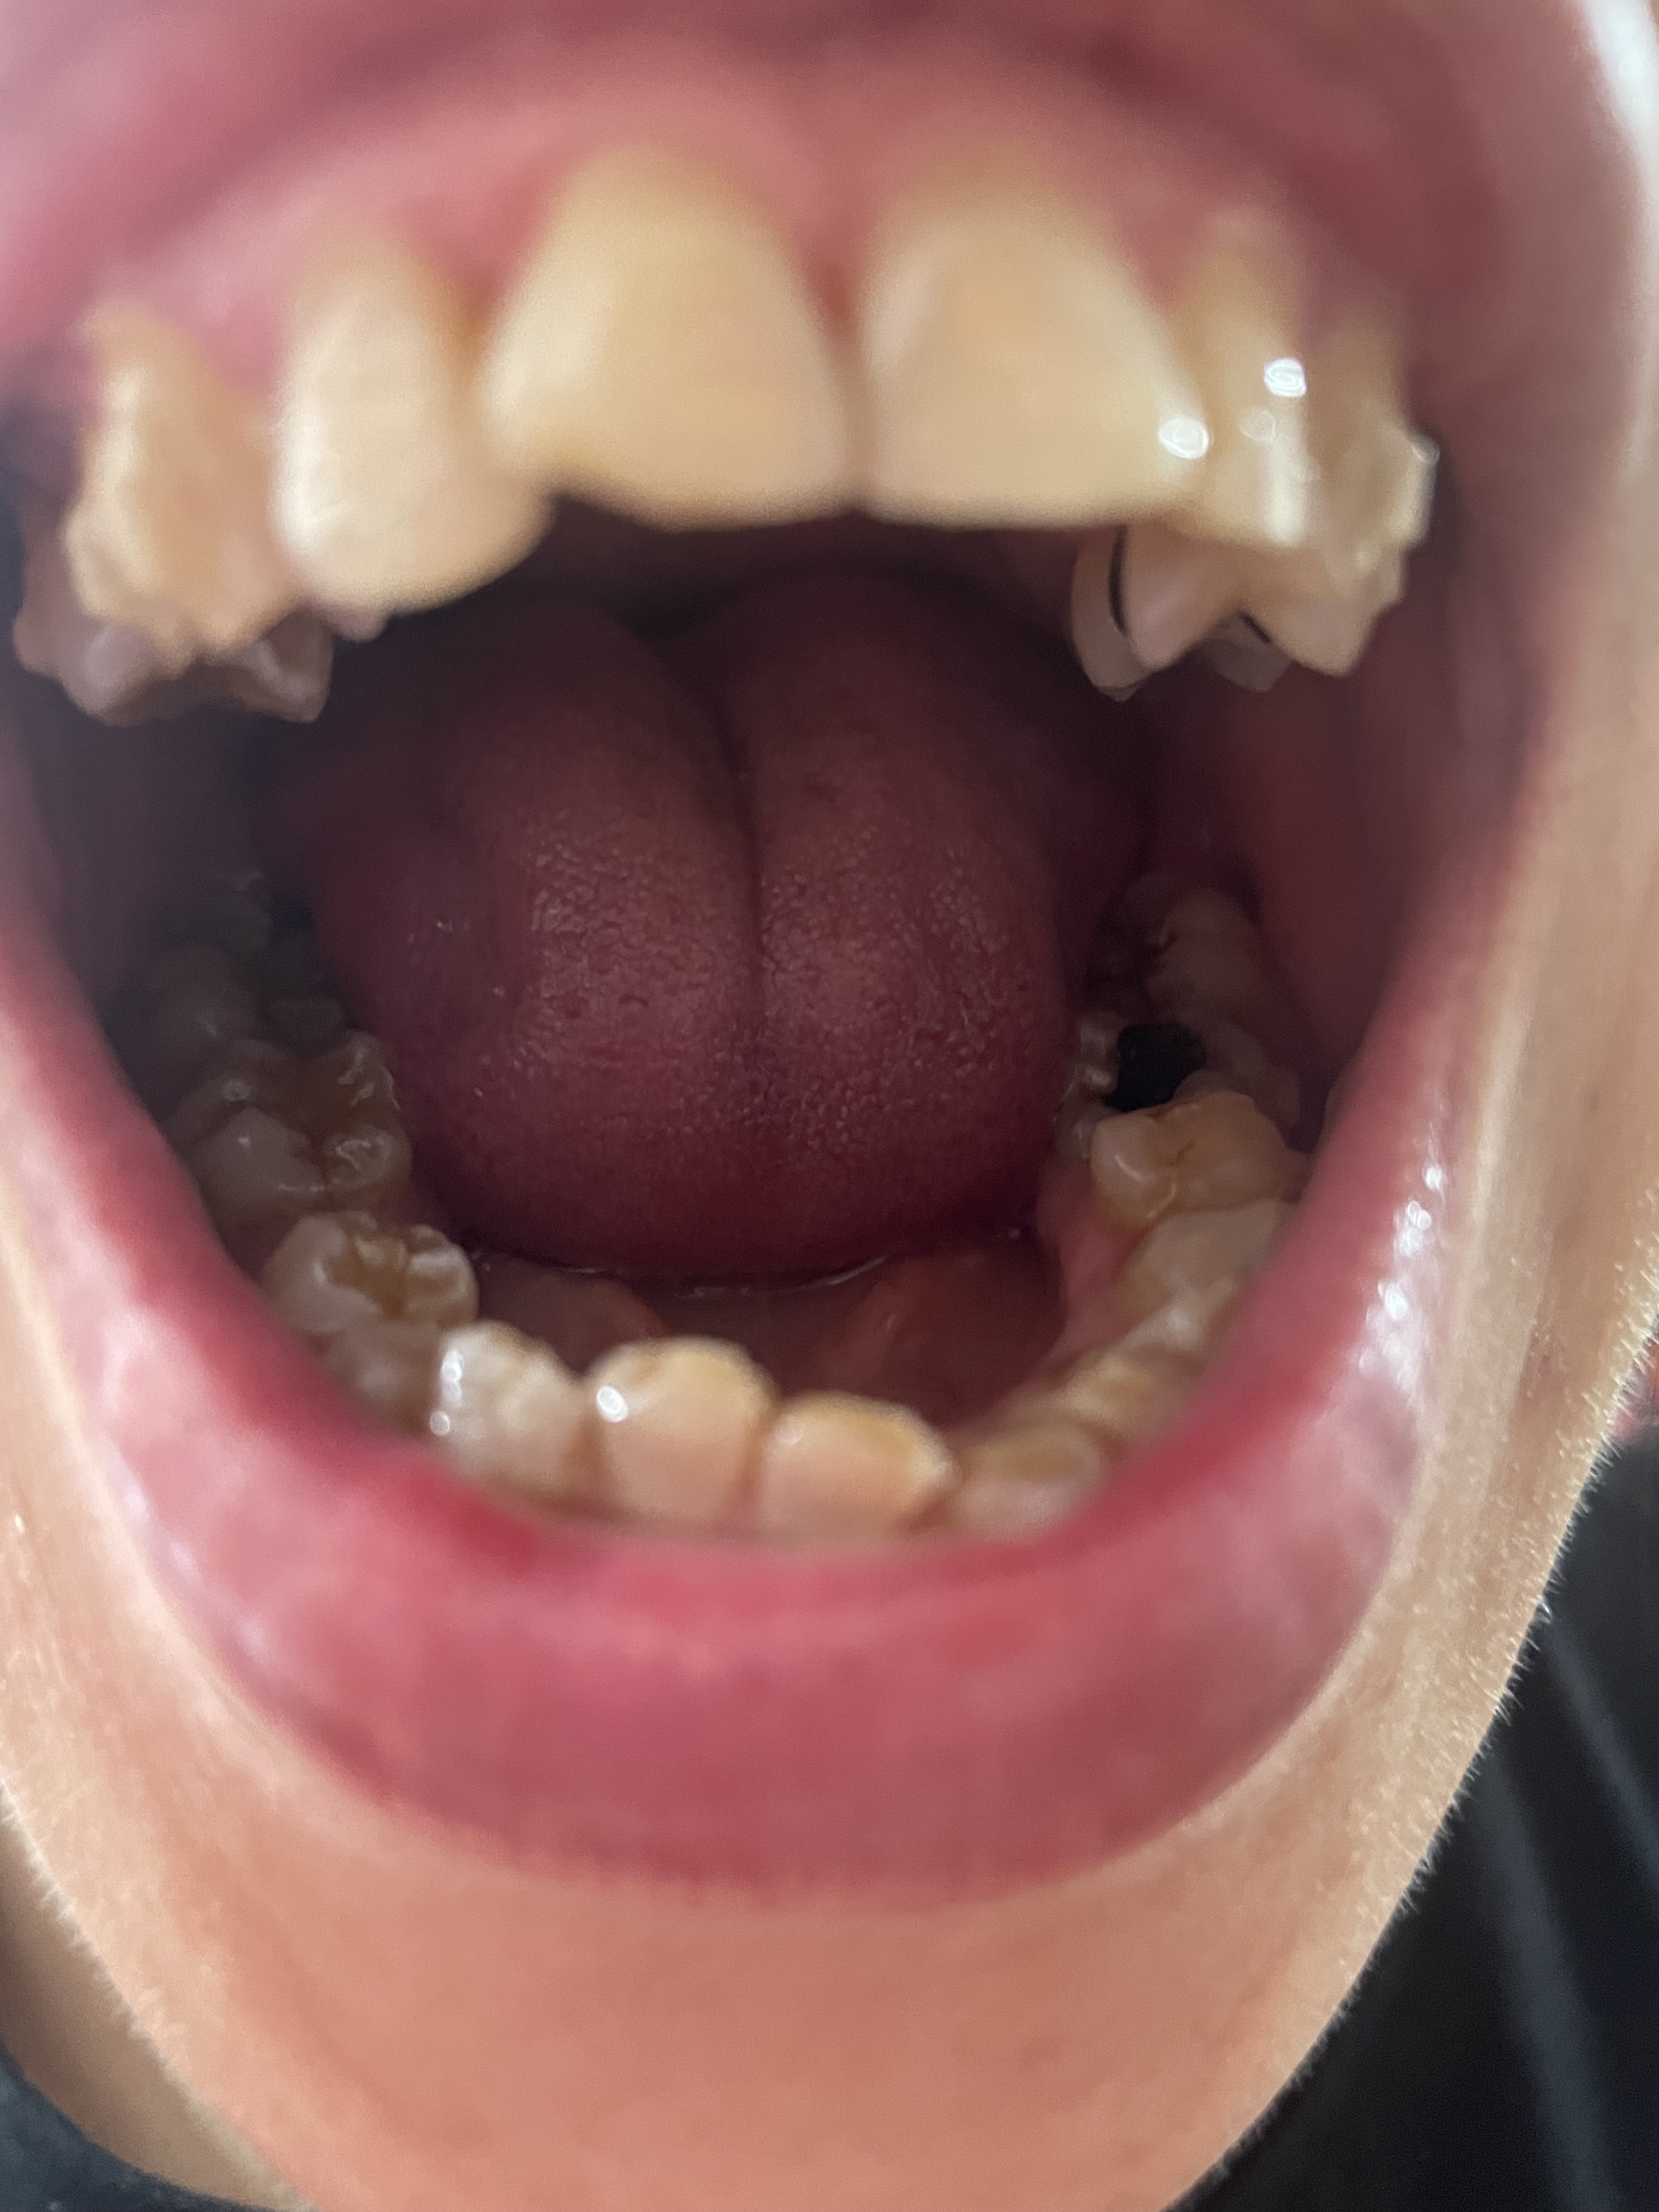teeth: (875, 136, 1213, 519), (483, 145, 836, 510), (275, 214, 533, 594), (91, 338, 258, 643), (1199, 211, 1305, 524), (599, 1352, 756, 1522), (765, 1404, 938, 1529), (437, 1332, 577, 1479)
